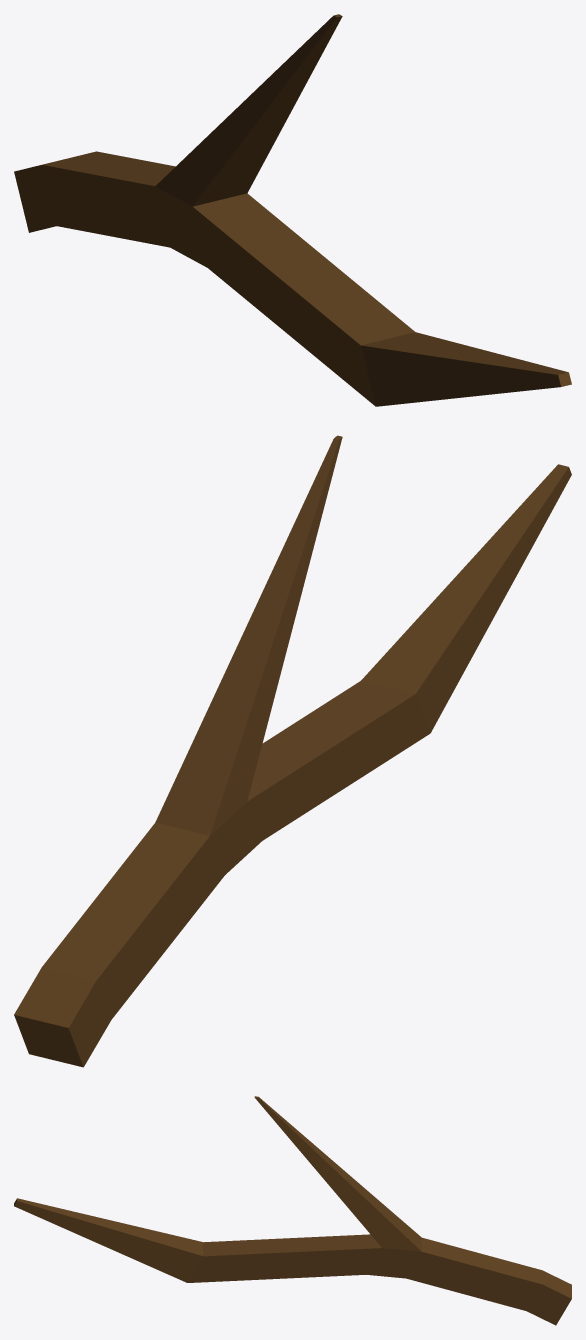
The model's file is Galhinho 2.fbx.
3 renders of one model, top to bottom at view 1: azimuth 30°, elevation 25°; view 2: azimuth 150°, elevation 25°; view 3: azimuth 270°, elevation 25°, orthographic. The views are drawn at different scales.
Parts seen in each view (by area): view 1: Graveto 1; view 2: Graveto 1; view 3: Graveto 1.
Part boxes in pixels (box(x1,y1,x2,y2)): Graveto 1: box(14, 14, 571, 406); Graveto 1: box(14, 435, 571, 1067); Graveto 1: box(14, 1096, 571, 1325).
Bounding box in the file's own units: 288 × 2096 × 4785.
